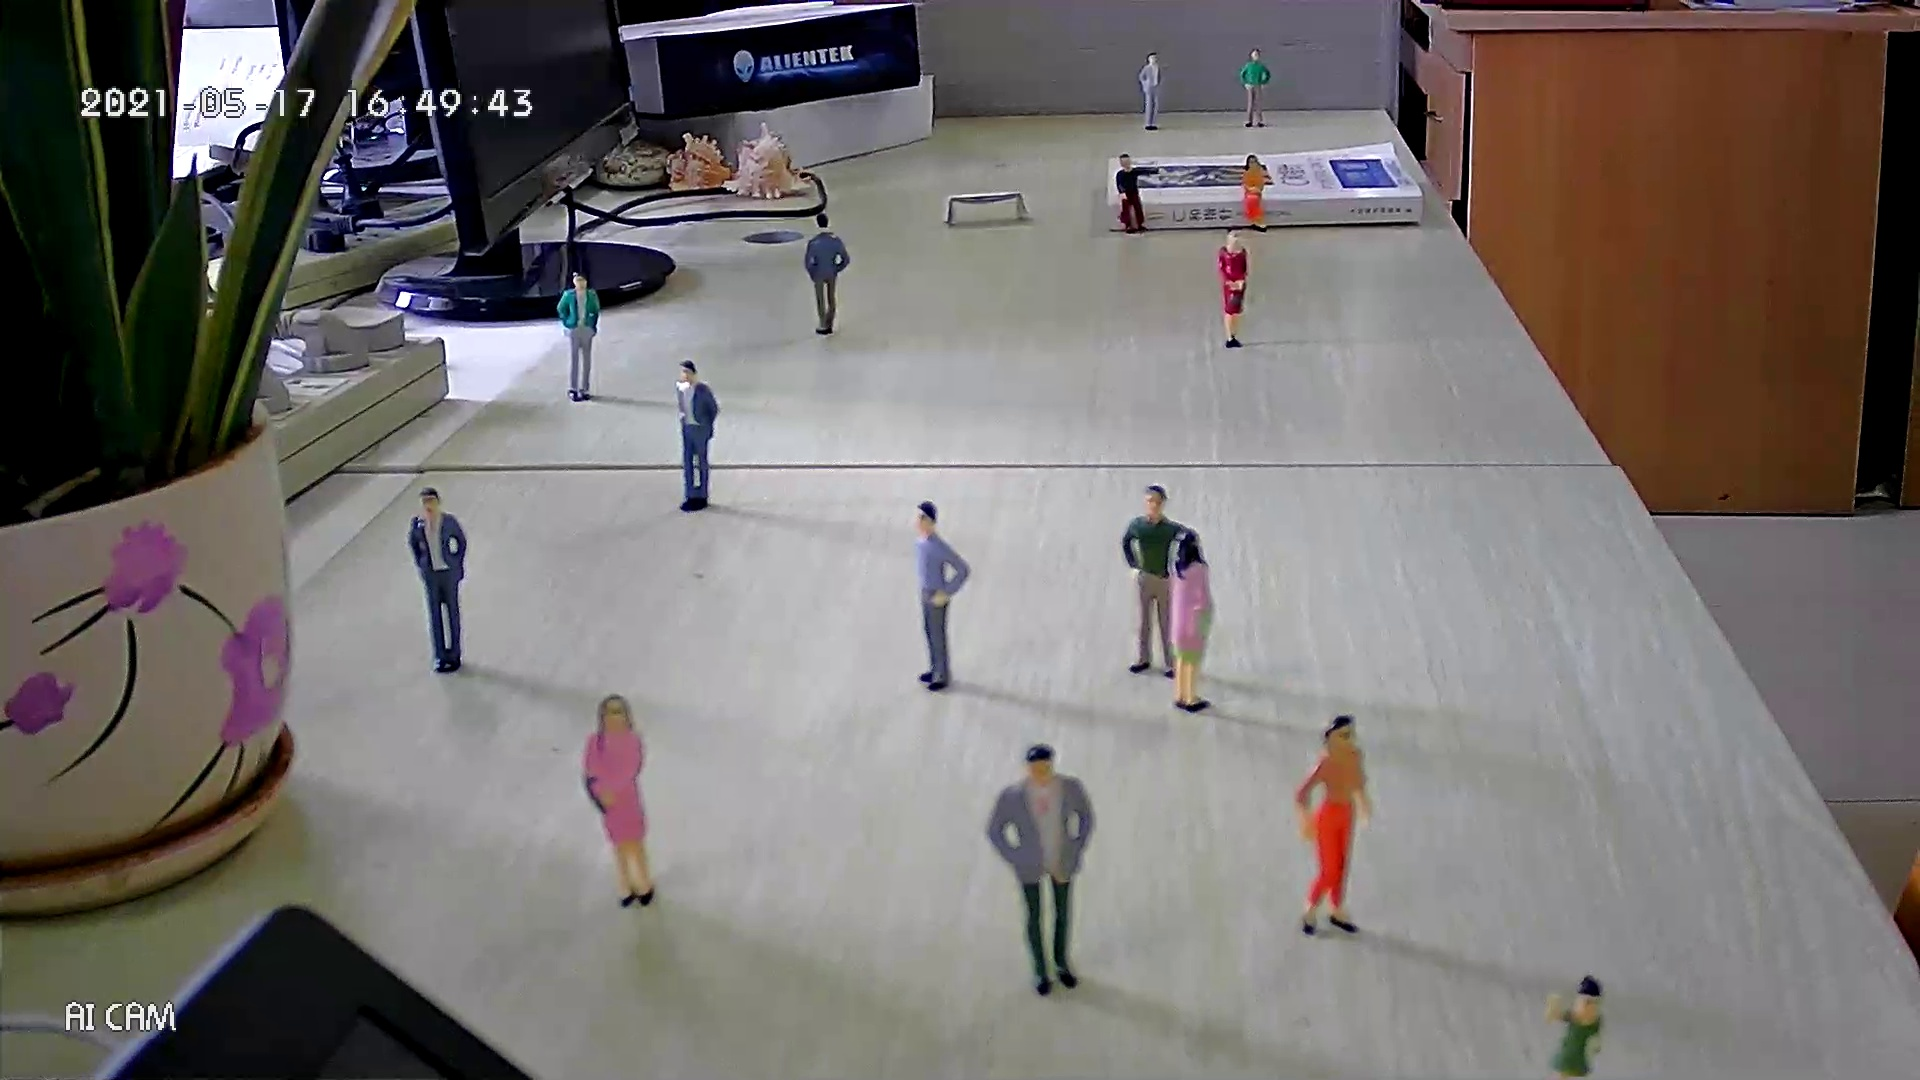person: (979, 740, 1095, 998), (1293, 712, 1377, 940), (577, 692, 661, 912), (1123, 482, 1187, 680), (407, 484, 471, 678), (909, 496, 971, 692), (1165, 524, 1219, 714), (669, 356, 721, 516), (1541, 970, 1610, 1080), (553, 262, 601, 404), (801, 210, 853, 338), (1215, 222, 1251, 350), (1111, 148, 1165, 236), (1237, 44, 1275, 132), (1237, 152, 1277, 234), (1137, 50, 1165, 134)
